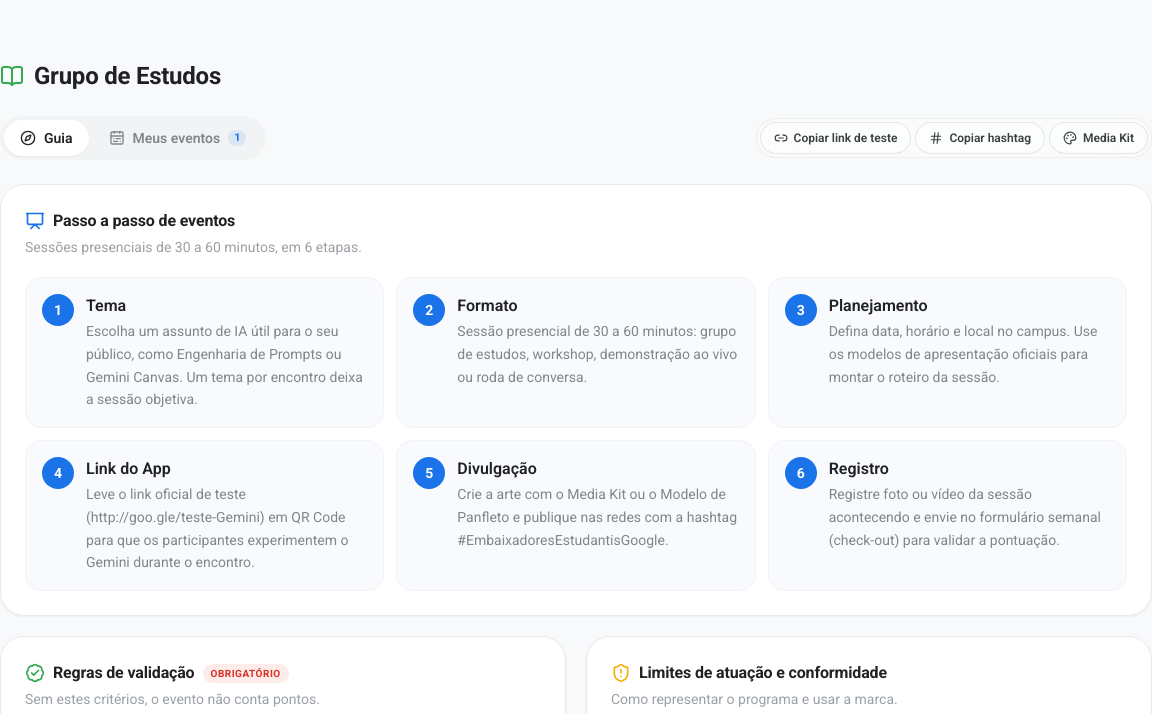
Test: StudyGuideModule › validates the evidence before check-out
Click the tab "Meus eventos 1": point(178, 138) [92, 120, 262, 156]
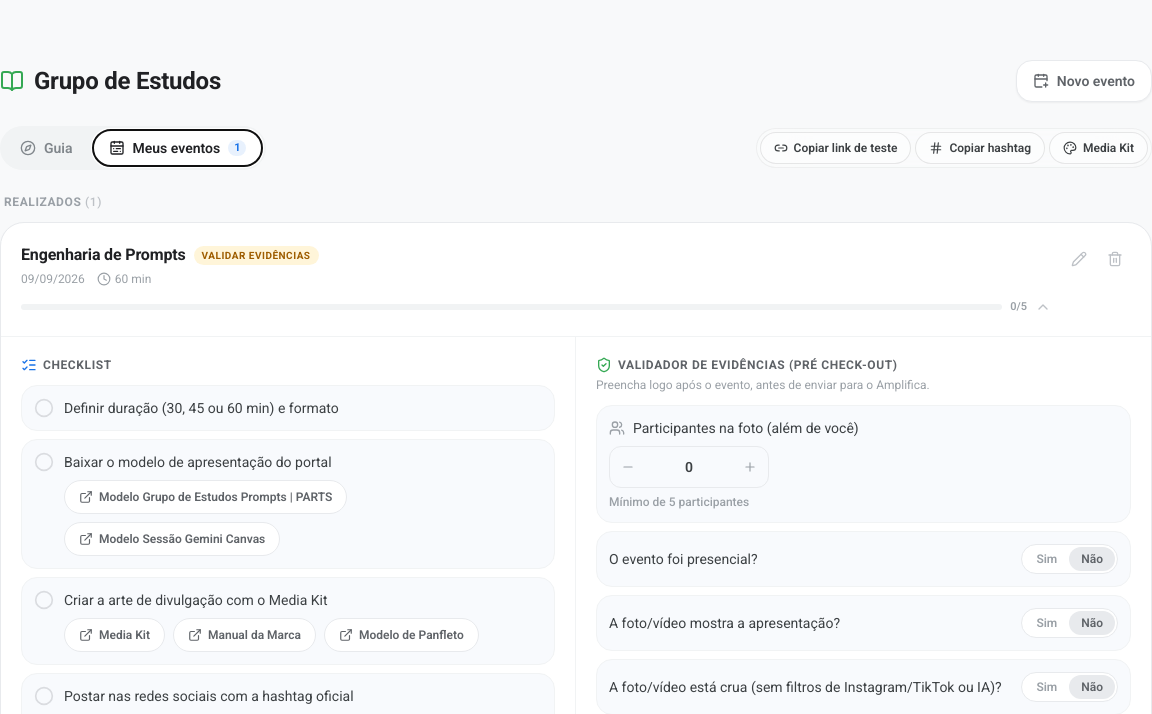
Click the number field: point(689, 466) [646, 446, 732, 486]
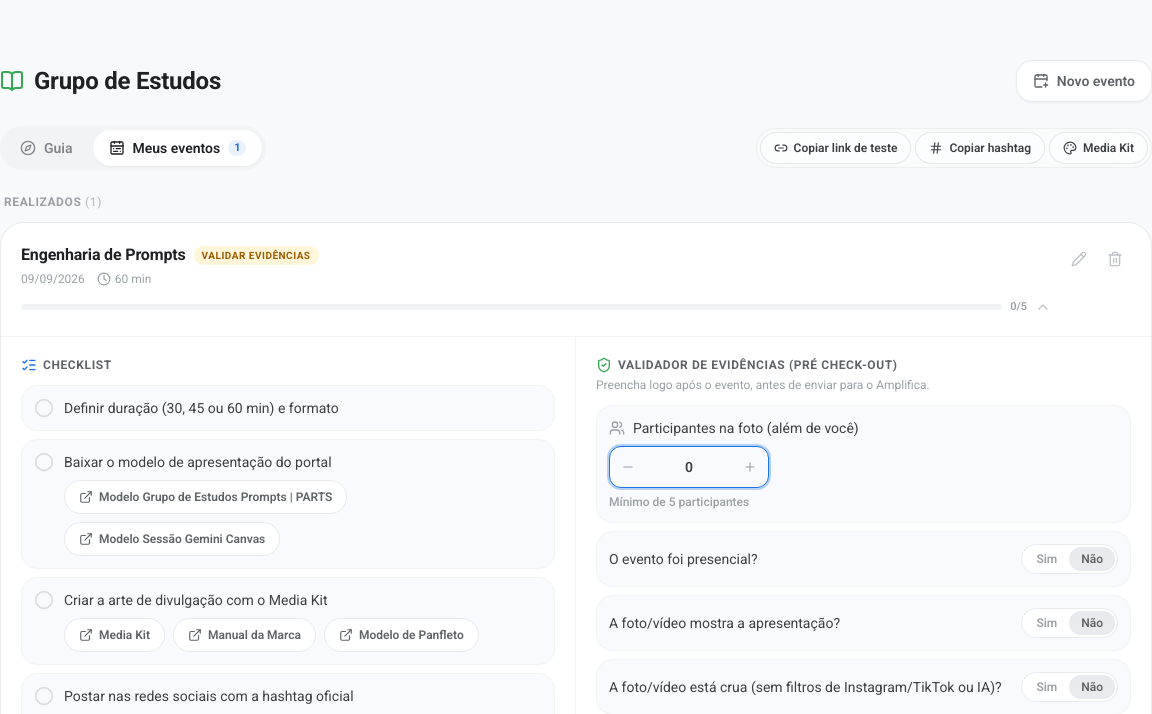
Type keys "5"
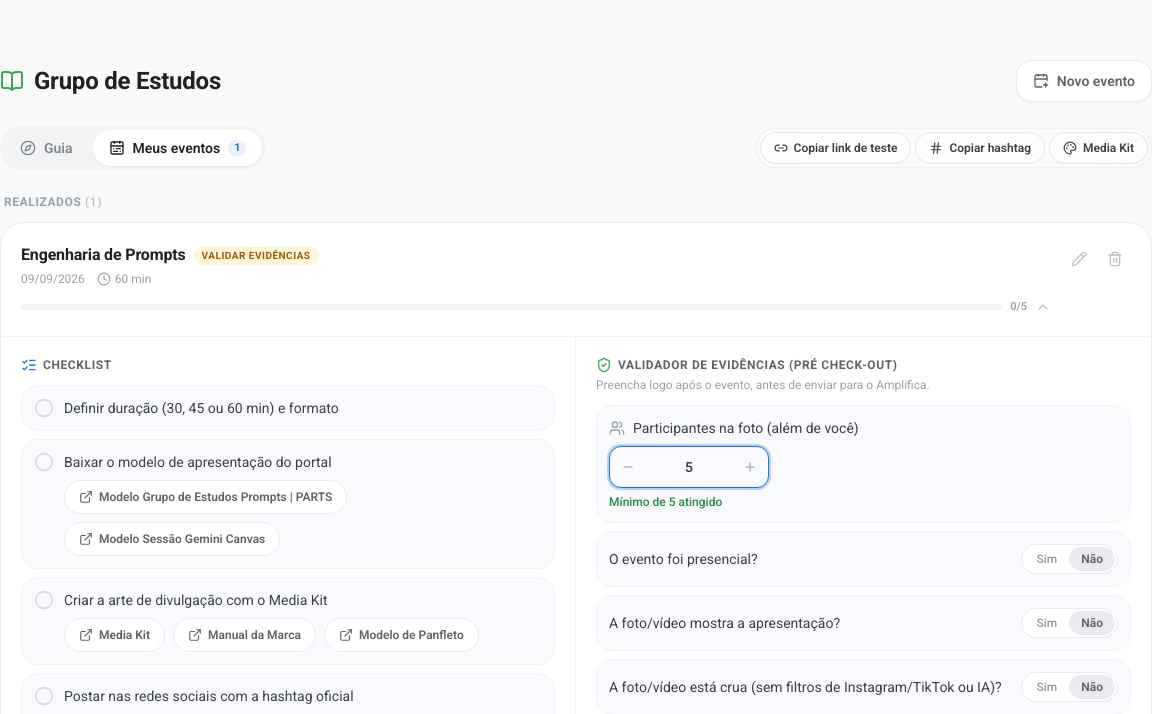
Click the radio button labelled "Sim" in the row of "O evento foi presencial?": point(1047, 558) [1024, 546, 1069, 570]
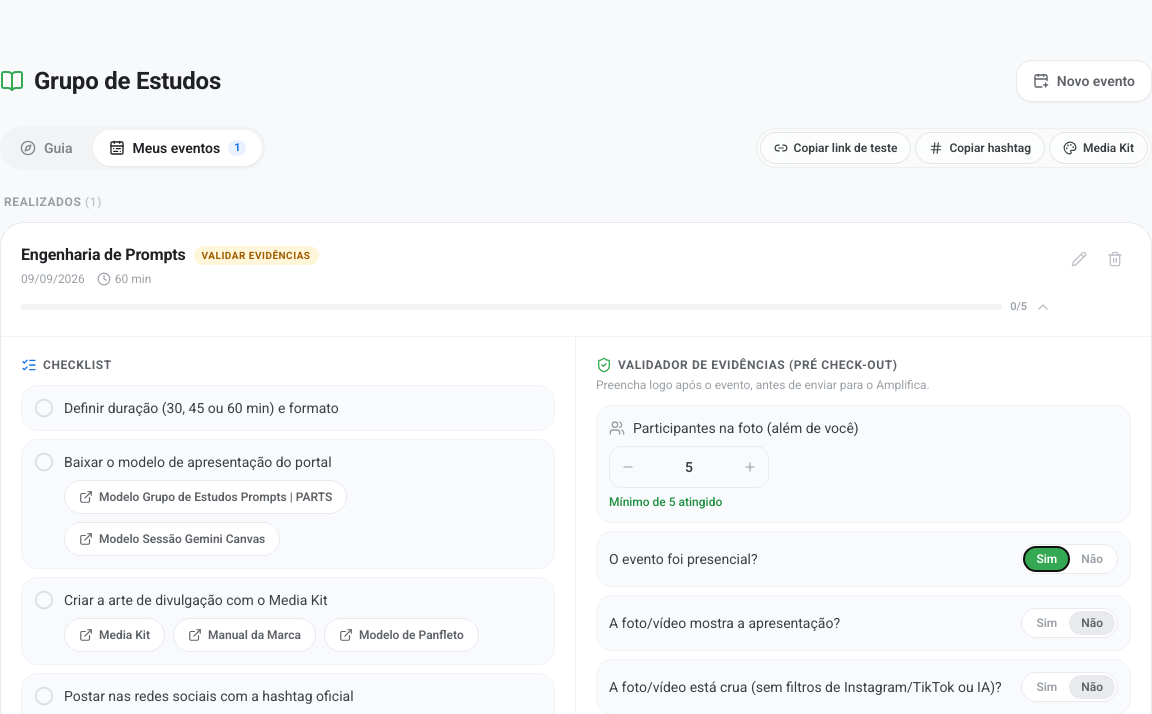
Click the radio button labelled "Sim" in the row of "A foto/vídeo mostra a apresentação?": point(1047, 622) [1024, 610, 1069, 634]
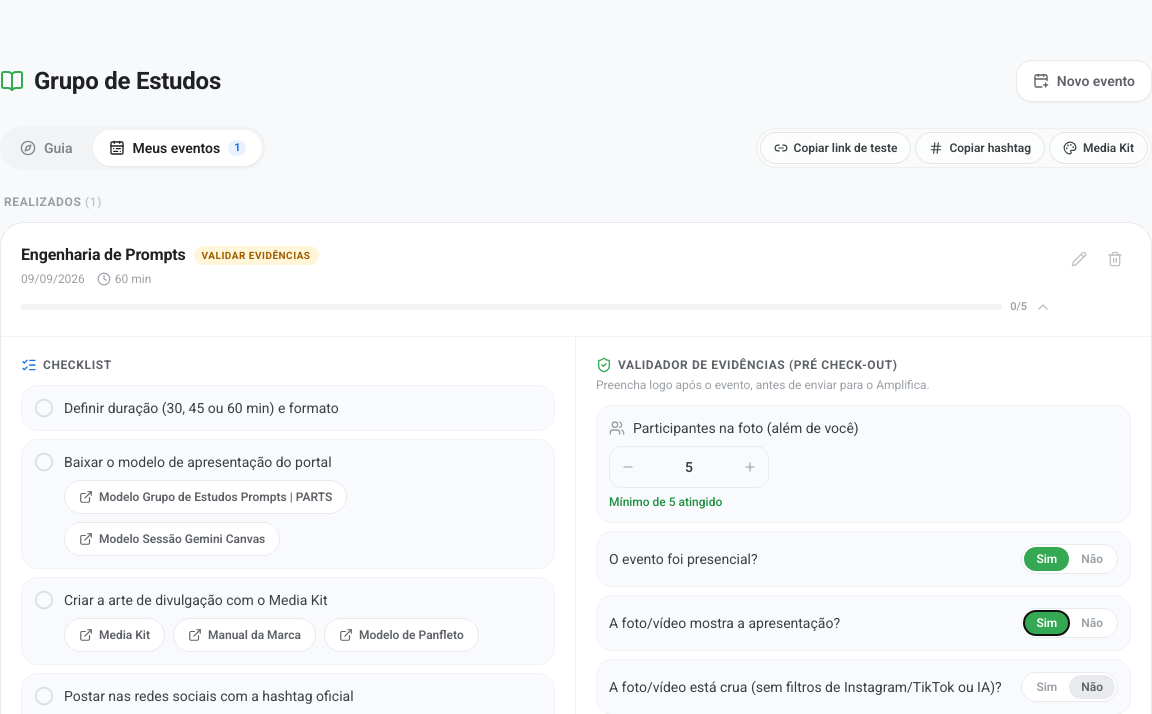
Click the 3rd radio button labelled "Sim": point(1047, 686) [1024, 674, 1069, 698]
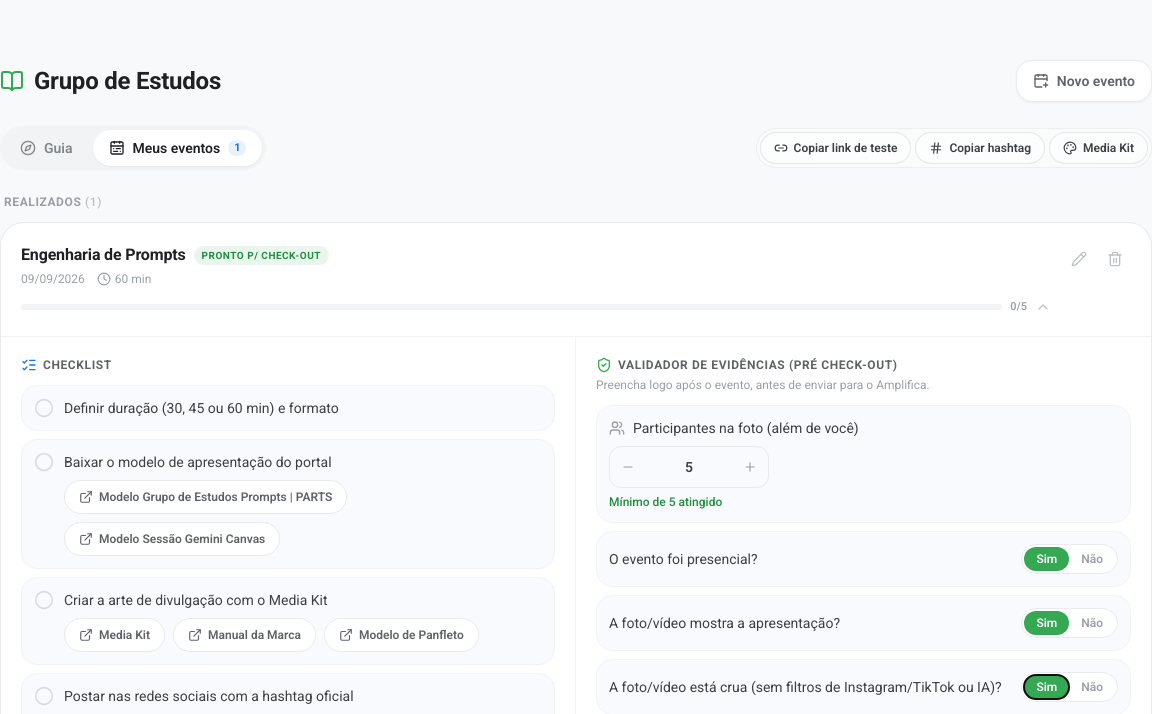
Check: the text "Pronto p/ check-out" is shown, box [194, 246, 329, 264]
